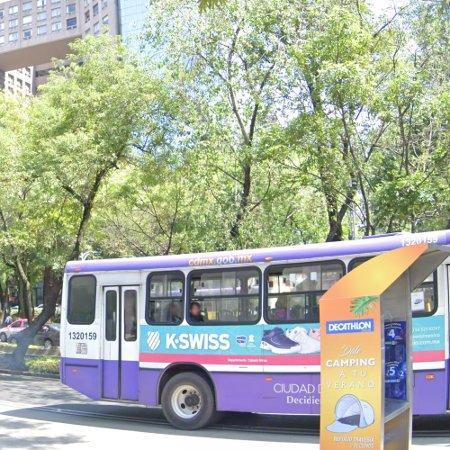buses: (414, 261, 450, 414)
